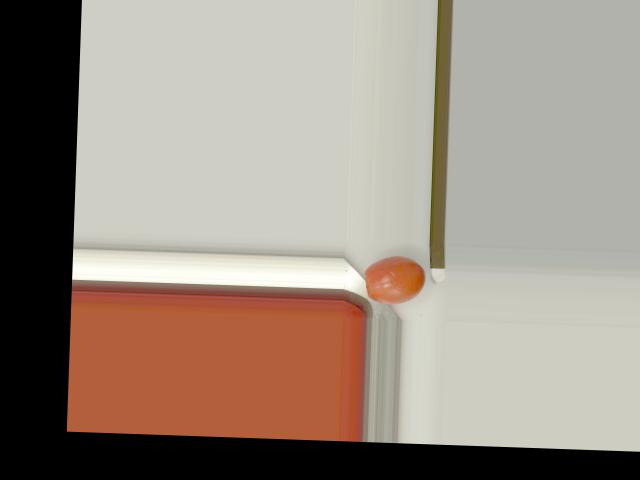tomato: (363, 254, 425, 305)
